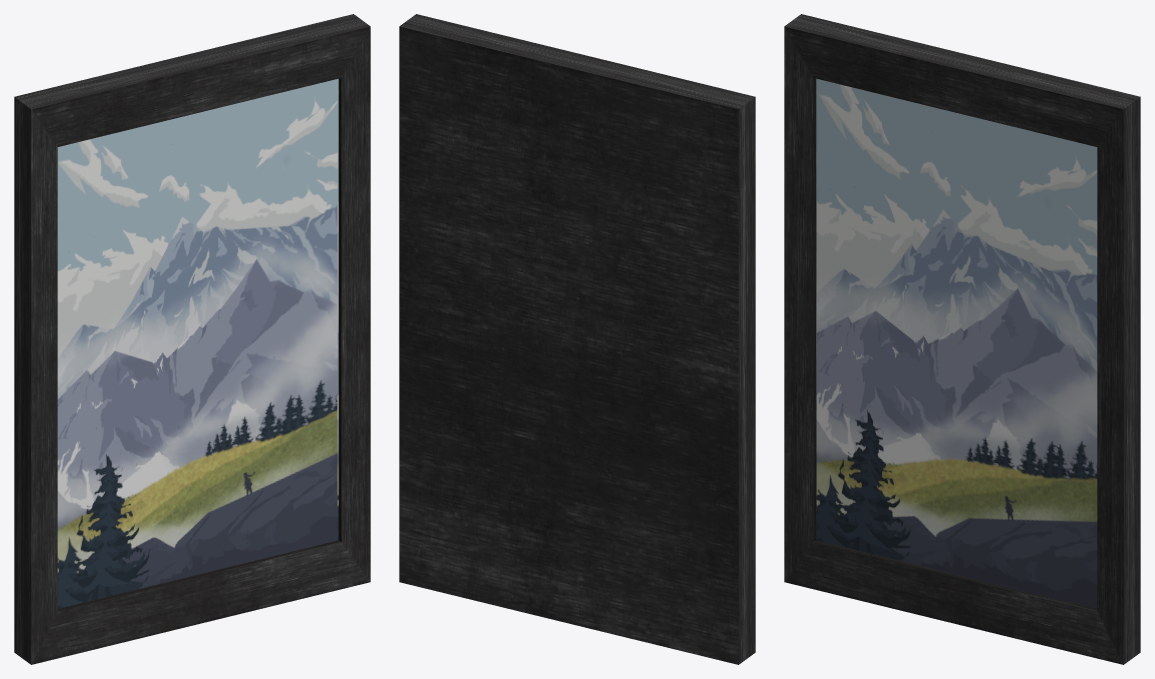
The model's file is painting_portrait_3.fbx.
3 renders of one model, left to right at view 1: azimuth 30°, elevation 25°; view 2: azimuth 150°, elevation 25°; view 3: azimuth 330°, elevation 25°, orthographic.
Visible parts, largest first — view 1: painting_Var3; view 2: painting_Var3; view 3: painting_Var3.
Boxes of the visible parts, x1,y1,x2,y2 form: painting_Var3: [14, 14, 370, 664]; painting_Var3: [399, 14, 755, 664]; painting_Var3: [784, 14, 1140, 664].
Size of the model in its own units: 59.07 by 92.39 by 5.15.
1 material, 1 textured.
